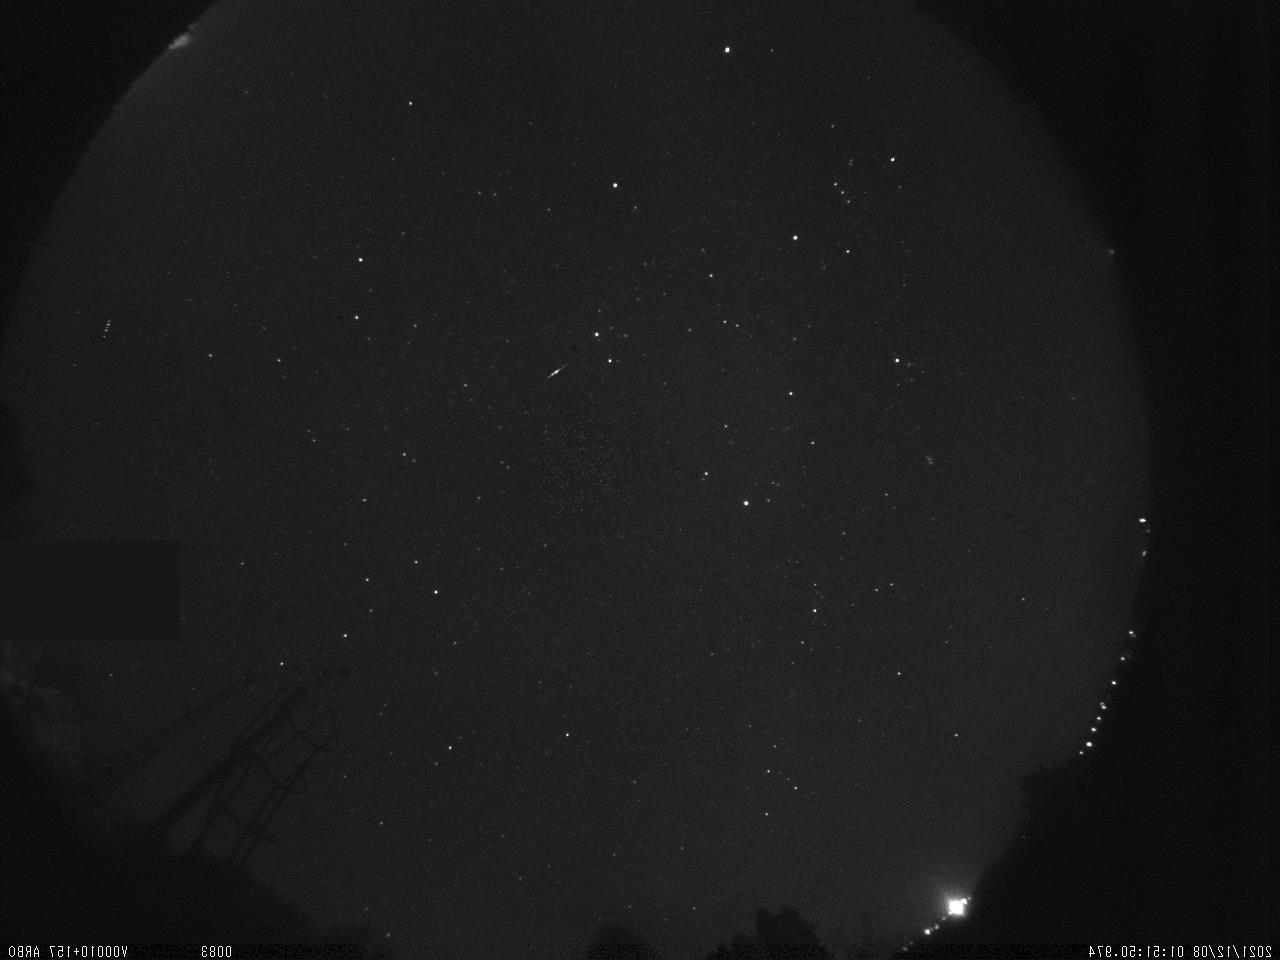meteor: (541, 354, 575, 387)
